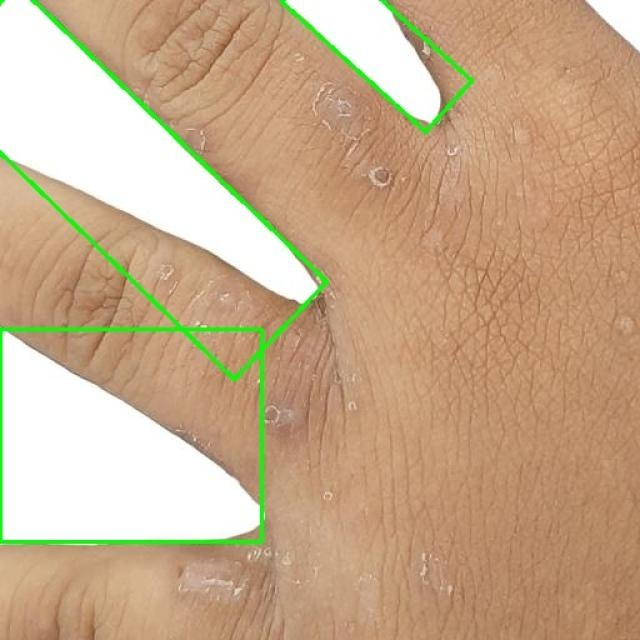Scabies: (0, 0, 331, 379), (0, 330, 262, 542), (282, 0, 472, 131)
